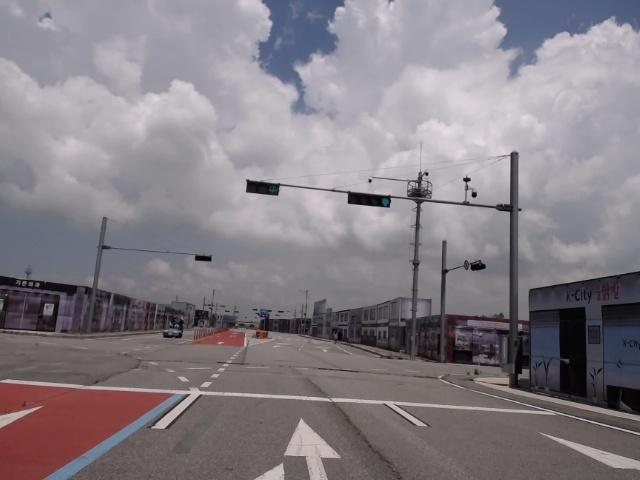straight_green_4: (350, 194, 392, 208)
